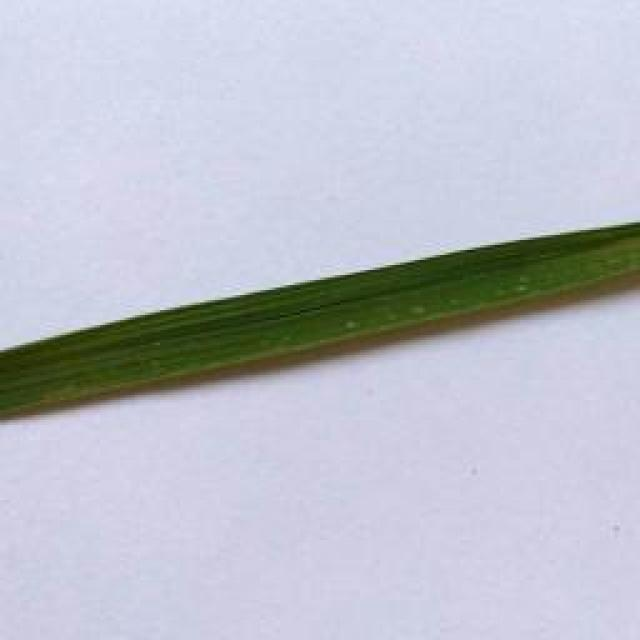Healthy-Plant: (418, 228, 639, 323), (258, 263, 416, 358), (121, 291, 256, 387), (1, 324, 120, 426)
